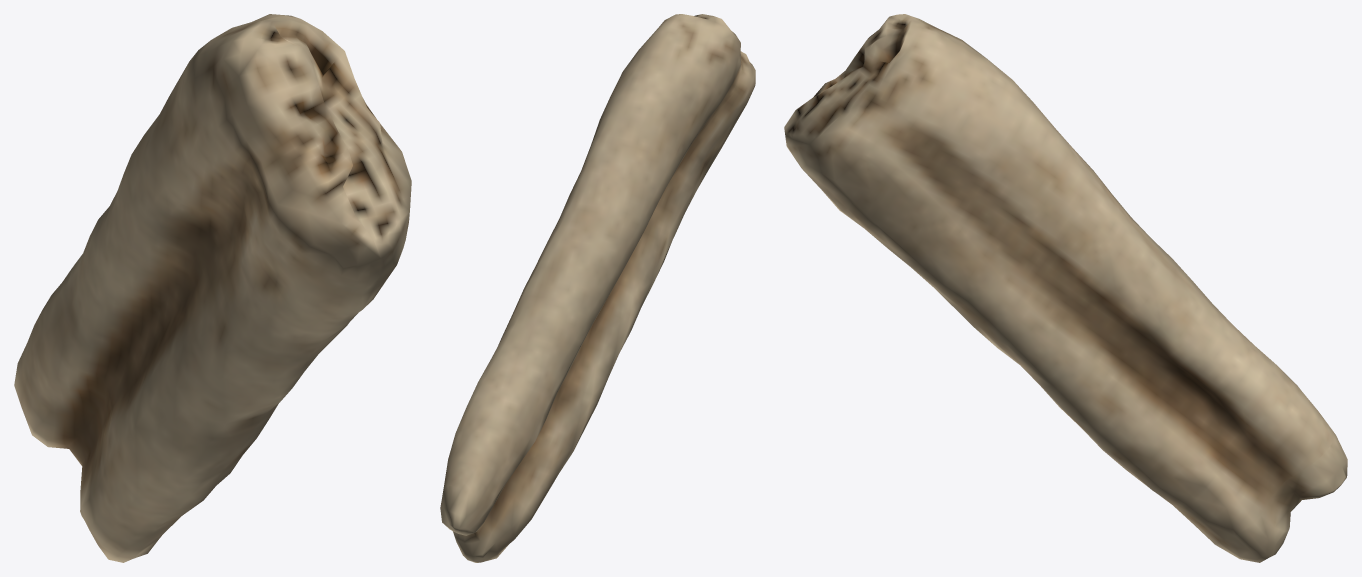
The model's file is Mandibular_Molar.glb.
3 views of the same model, side by side, from view 1: azimuth 30°, elevation 25°; view 2: azimuth 150°, elevation 25°; view 3: azimuth 270°, elevation 25° (orthographic). The views are drawn at different scales.
Parts seen in each view (by area): view 1: Mandibular_Molar.glb; view 2: Mandibular_Molar.glb; view 3: Mandibular_Molar.glb.
Boxes of the visible parts, <box> form: Mandibular_Molar.glb: <box>14,14,411,562</box>; Mandibular_Molar.glb: <box>440,14,755,562</box>; Mandibular_Molar.glb: <box>784,14,1347,562</box>.
Bounding box in the file's own units: 0.0213 × 0.0729 × 0.0735.
1 material, 1 textured.
